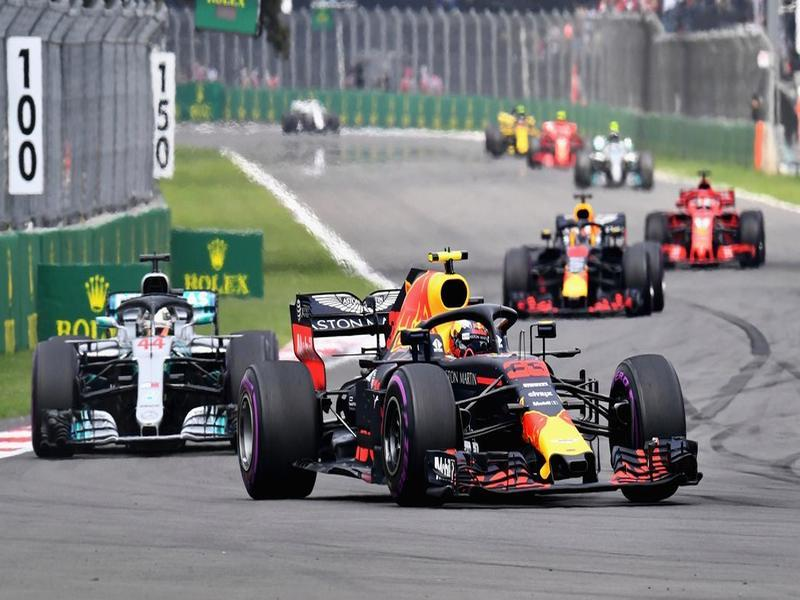f1: (247, 229, 708, 544), (28, 261, 280, 456), (496, 196, 673, 327), (646, 166, 786, 275)
